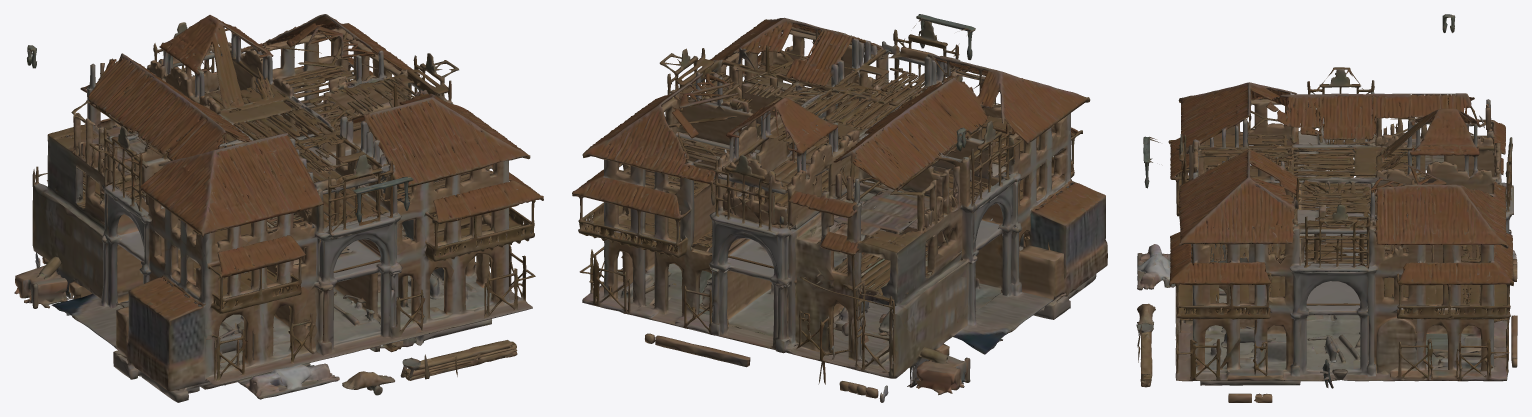
The model's file is rector2_opt.glb.
3 renders of one model, left to right at view 1: azimuth 30°, elevation 25°; view 2: azimuth 150°, elevation 25°; view 3: azimuth 270°, elevation 25°, orthographic. The views are drawn at different scales.
Parts seen in each view (by area): view 1: world; view 2: world; view 3: world.
Boxes of the visible parts, box(x1,y1,x2,y2) form: world: box(14, 14, 543, 402); world: box(572, 14, 1107, 402); world: box(1136, 14, 1517, 402).
Bounding box in the file's own units: 1 × 0.6965 × 1.
1 material, 1 textured.
